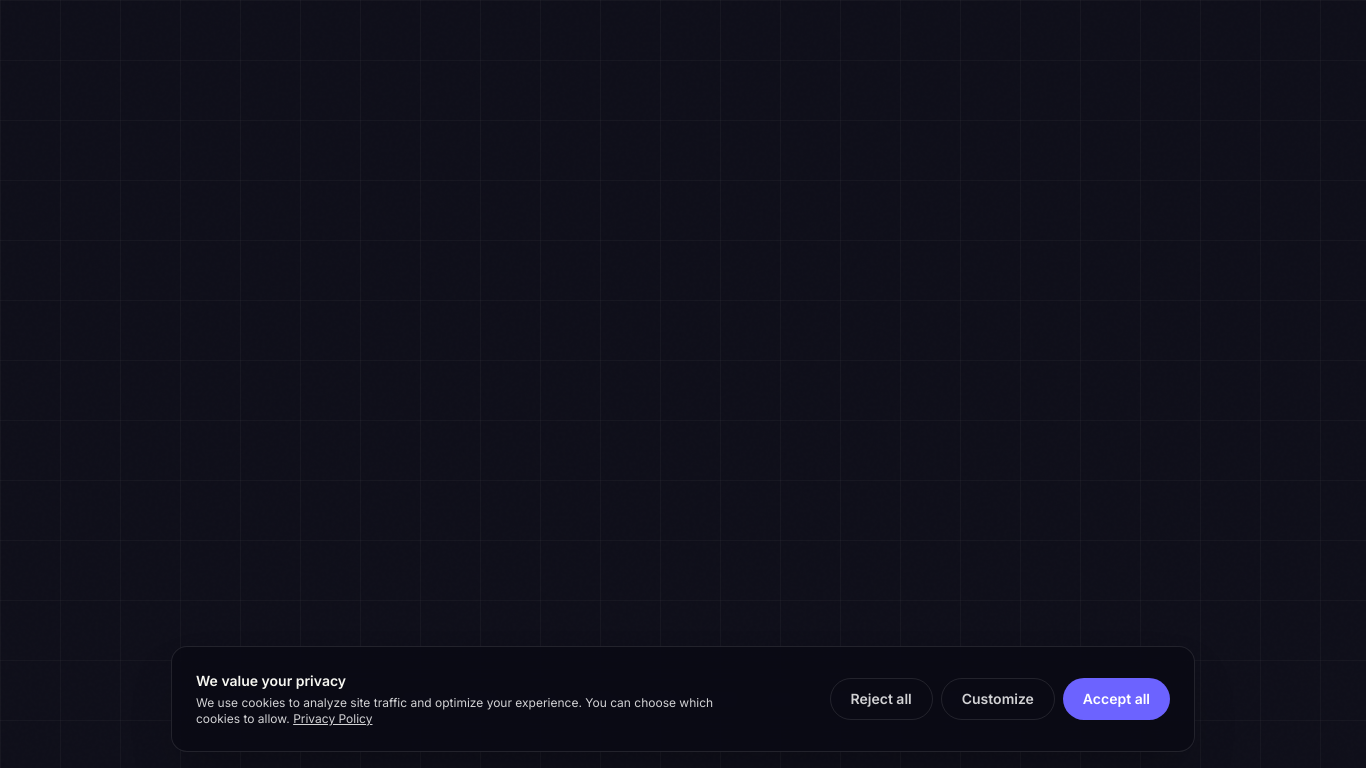
Scenario: CookieConsent settings modal › clicking 'Customize' opens the settings modal
The image size is (1366, 768).
Click the button "Customize". click: (998, 699)
box: left=941, top=678, right=1055, bottom=720
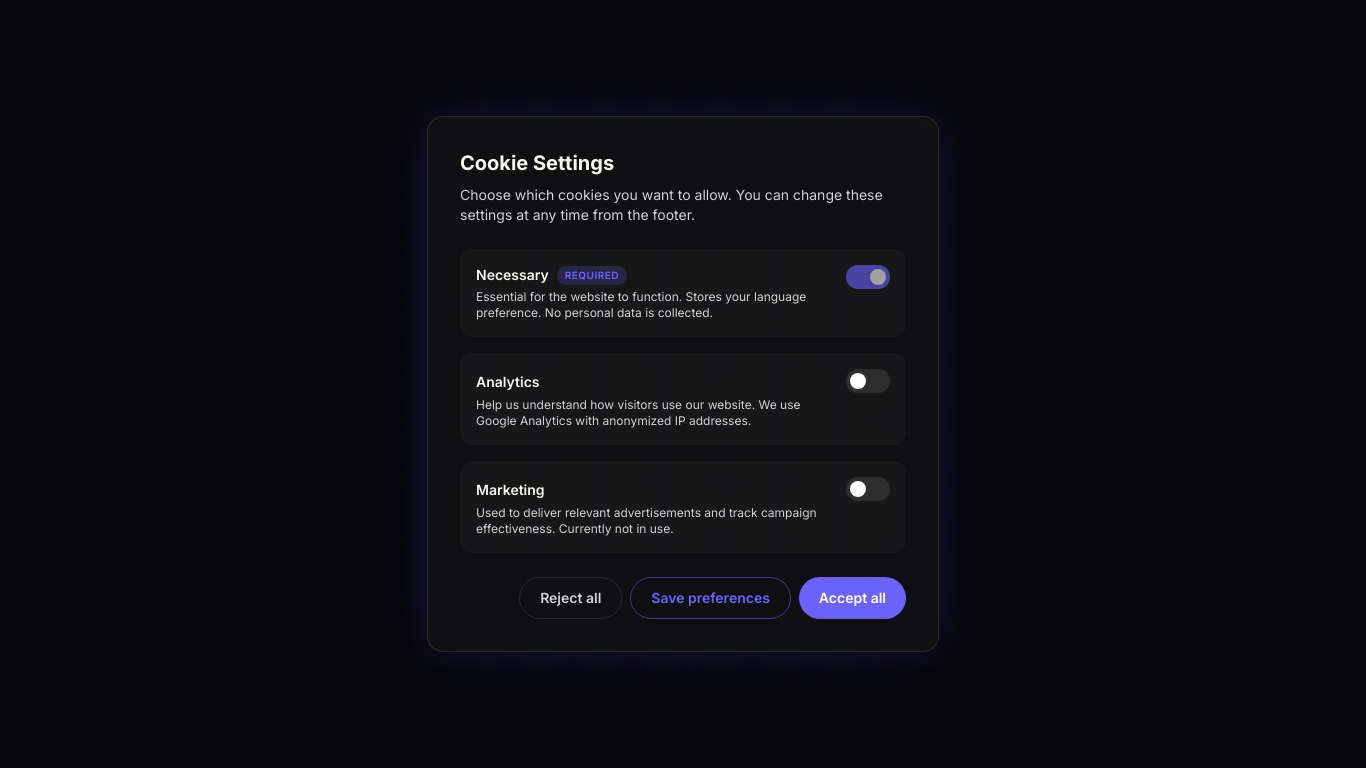
Expected: the heading "Cookie Settings" is shown, left=460, top=151, right=614, bottom=175
Expected: the dialog is shown, left=427, top=116, right=939, bottom=652
